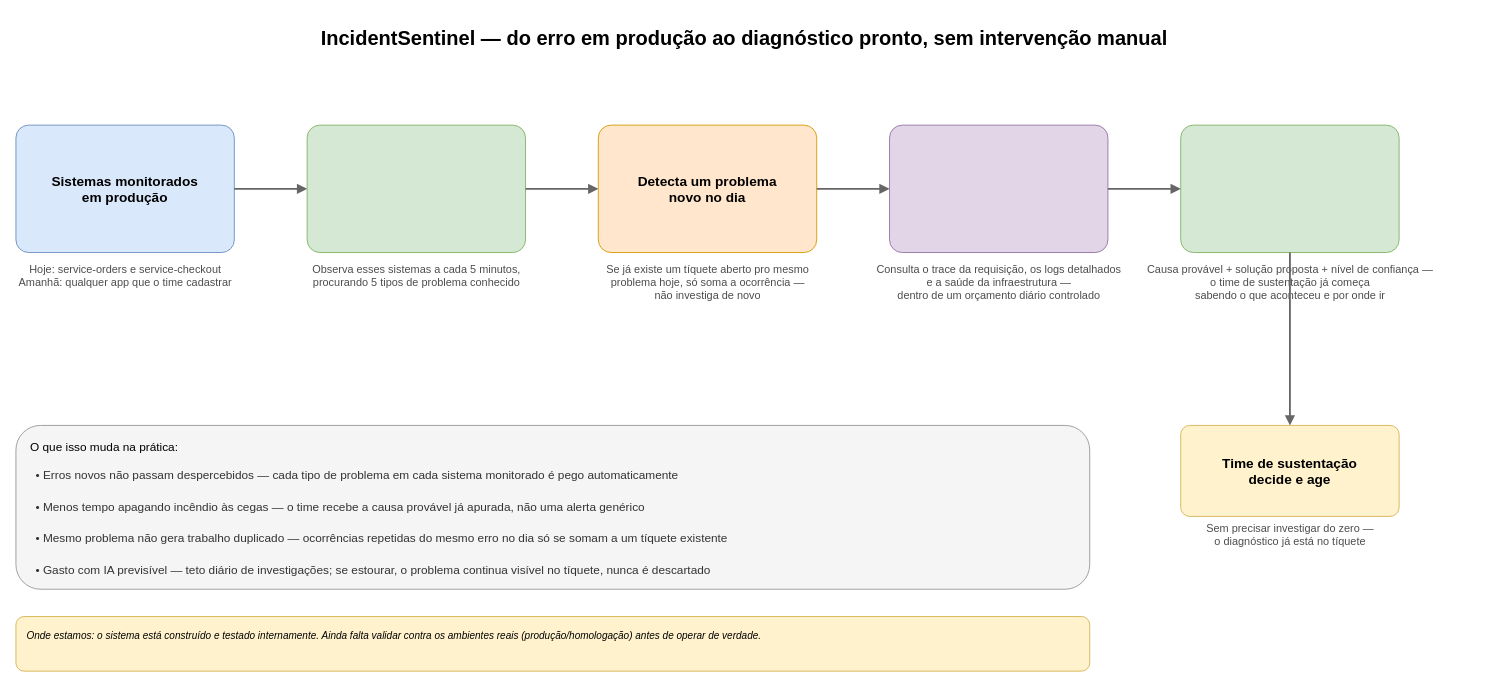
Image size: 1488x687. Some labels were removed from this diagram. Each missing label, with the centre of its shape:
"Monitoramento automático, 24/7" belongs at point (416, 188).
"Tíquete com diagnóstico pronto" belongs at point (1289, 188).
"Um agente de IA investiga sozinho" belongs at point (998, 188).
